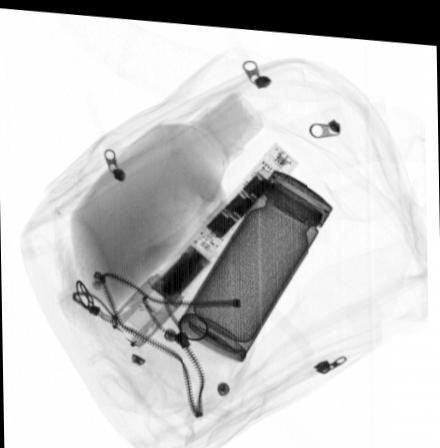Baton: (103, 132, 300, 350)
